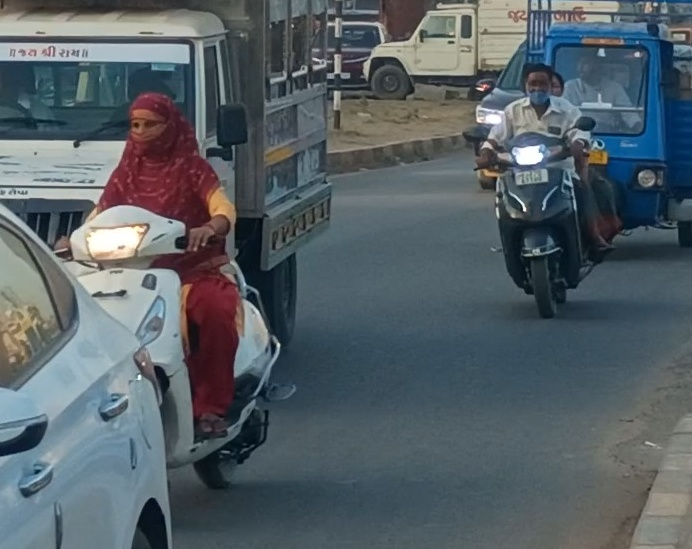BikeWithRider: (45, 84, 304, 503), (471, 57, 623, 323)
NoHelmet: (113, 87, 195, 161), (516, 60, 559, 107)
